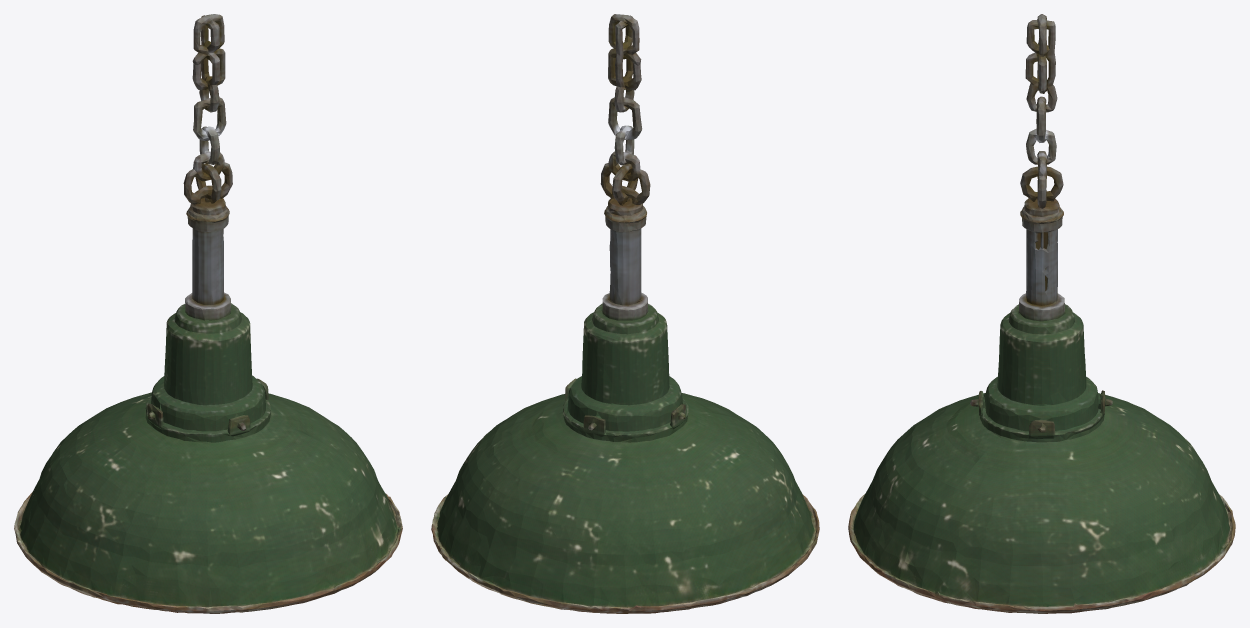
The model's file is lamp.obj.
3 views of the same model, side by side, from view 1: azimuth 30°, elevation 25°; view 2: azimuth 150°, elevation 25°; view 3: azimuth 270°, elevation 25° (orthographic).
Visible parts, largest first — view 1: lamp; view 2: lamp; view 3: lamp.
Boxes of the visible parts, x1=… form: lamp: x1=14, y1=14, x2=402, y2=613; lamp: x1=431, y1=14, x2=819, y2=613; lamp: x1=848, y1=14, x2=1235, y2=613.
Bounding box in the file's own units: 0.6592 × 1 × 0.6586.
Materials: 1 (1 with a texture image).
